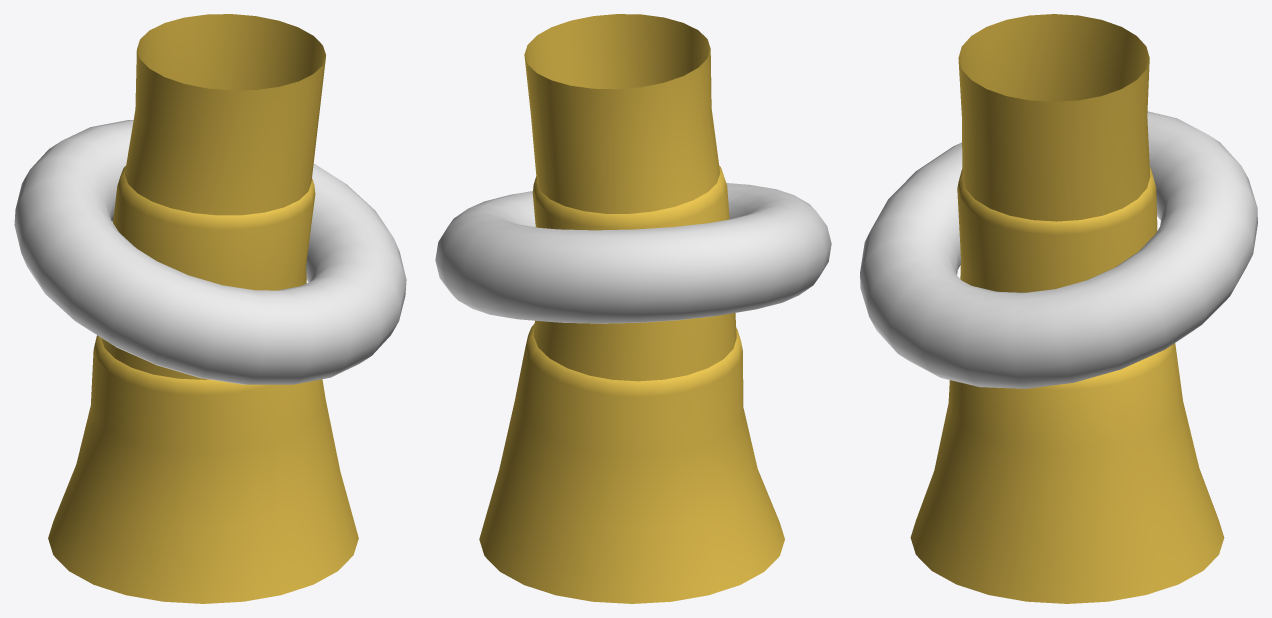
File: coconut_root.fbx
The picture shows the model from 3 angles, left to right: view 1: azimuth 30°, elevation 25°; view 2: azimuth 150°, elevation 25°; view 3: azimuth 270°, elevation 25°; orthographic projection. The views are drawn at different scales.
Parts seen in each view (by area): view 1: coconut_root, float; view 2: coconut_root, float; view 3: coconut_root, float.
Boxes of the visible parts, x1,y1,x2,y2 form: coconut_root: (48,14,358,603); float: (14,120,406,384); coconut_root: (479,14,784,603); float: (435,183,831,323); coconut_root: (910,14,1224,603); float: (860,111,1257,388).
Bounding box in the file's own units: 193 × 262 × 191.
